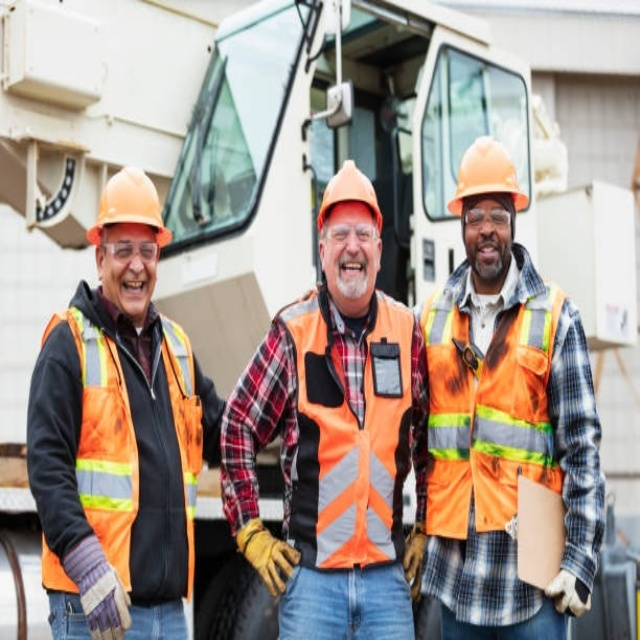Gafas: (103, 241, 159, 261), (324, 224, 379, 244), (463, 208, 512, 228)
Guantes: (62, 535, 131, 640), (235, 518, 301, 597), (544, 567, 591, 618), (402, 524, 427, 600)
Sin_mascara: (338, 256, 371, 293), (117, 273, 148, 306), (474, 242, 502, 271)
